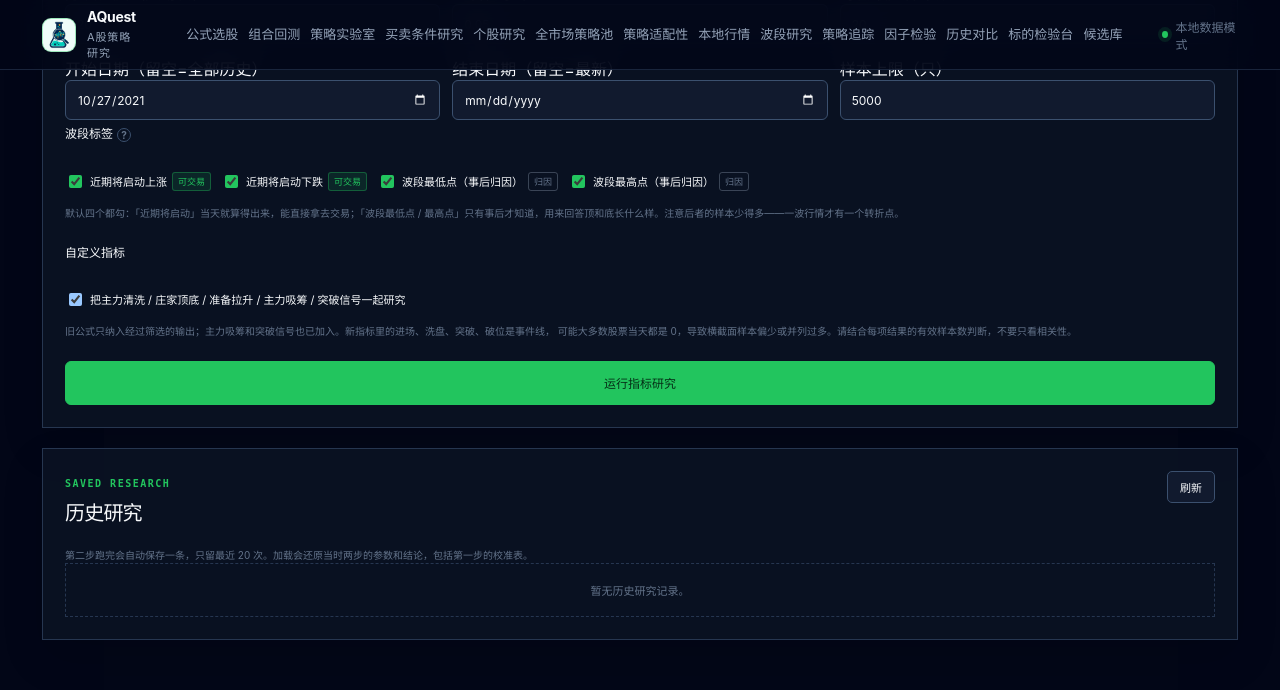
Test case: SwingResearchPage › shows the backend message when a study is rejected
This screenshot has width=1280, height=690.
(page scrolled)
Click the button with test id "swing-study-run" at point(640, 383), box [65, 361, 1215, 405]
(page scrolled)
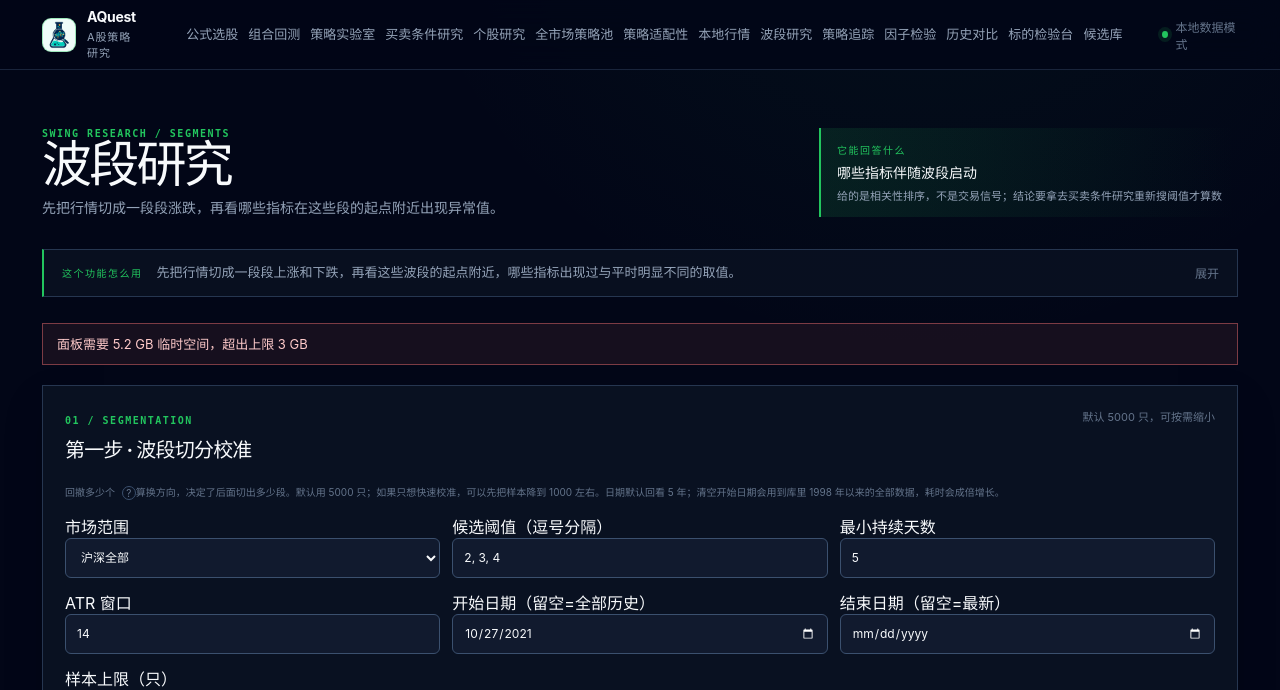
Check: the message with test id "swing-message" shows "超出上限 3 GB", box [57, 336, 308, 352]
